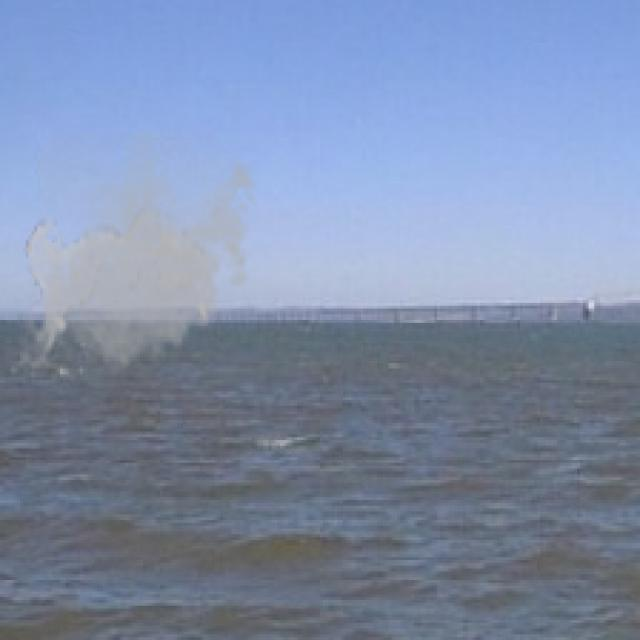smoke: (20, 132, 263, 377)
